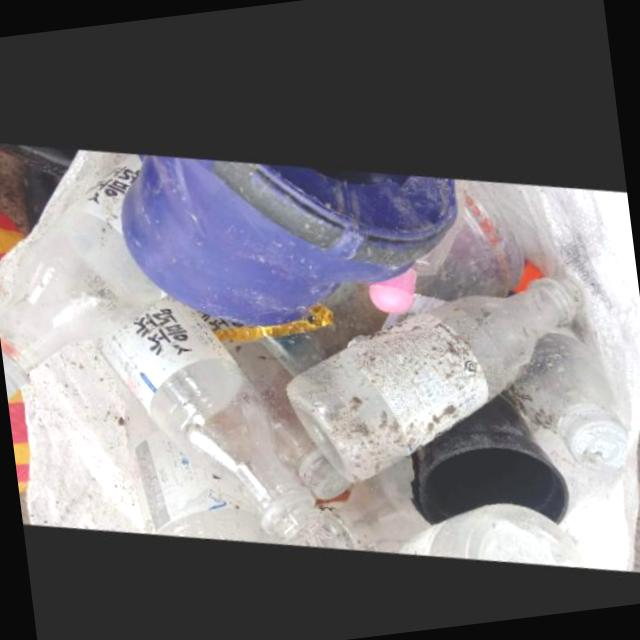chai_nhua_pet: (289, 265, 589, 476), (99, 291, 325, 540), (0, 149, 166, 402), (233, 335, 353, 494), (513, 318, 630, 461)
